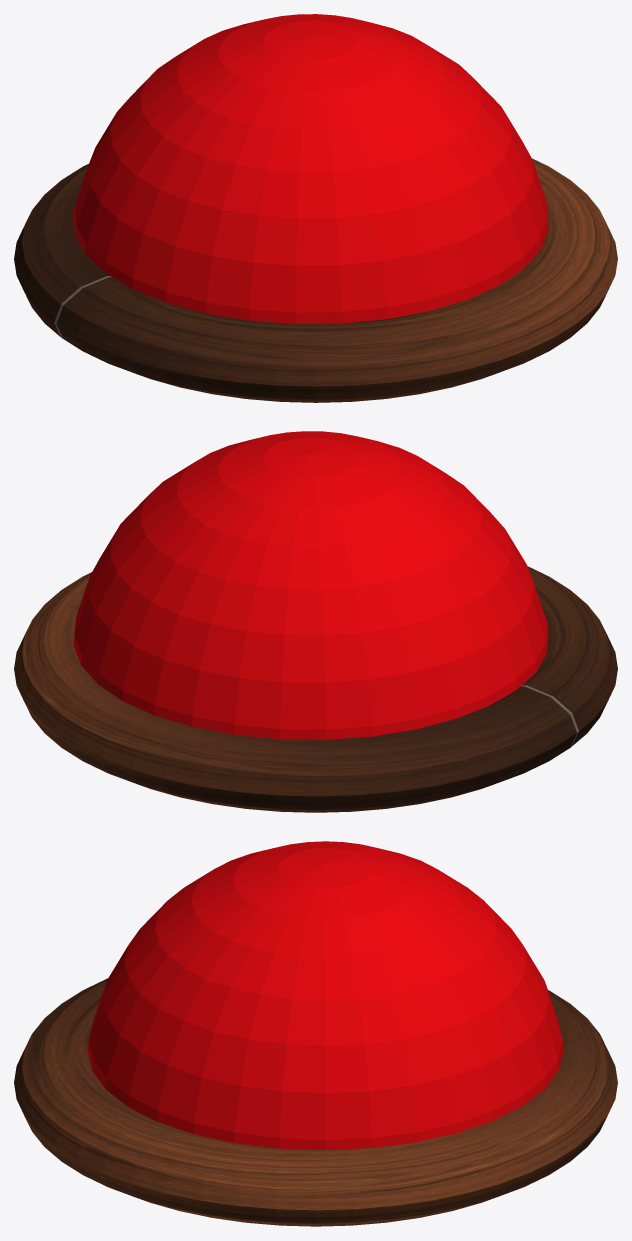
Rendered from botones.fbx.
3 renders of one model, top to bottom at view 1: azimuth 30°, elevation 25°; view 2: azimuth 150°, elevation 25°; view 3: azimuth 270°, elevation 25°, orthographic.
Visible parts, largest first — view 1: Sphere.001, Torus.001; view 2: Sphere.001, Torus.001; view 3: Sphere.001, Torus.001.
Boxes of the visible parts, x1=… form: Sphere.001: x1=73, y1=14, x2=548, y2=323; Torus.001: x1=14, y1=158, x2=617, y2=402; Sphere.001: x1=73, y1=431, x2=548, y2=739; Torus.001: x1=14, y1=566, x2=617, y2=812; Sphere.001: x1=87, y1=841, x2=563, y2=1150; Torus.001: x1=14, y1=978, x2=617, y2=1226.
Bounding box in the file's own units: 250 × 115 × 250.
